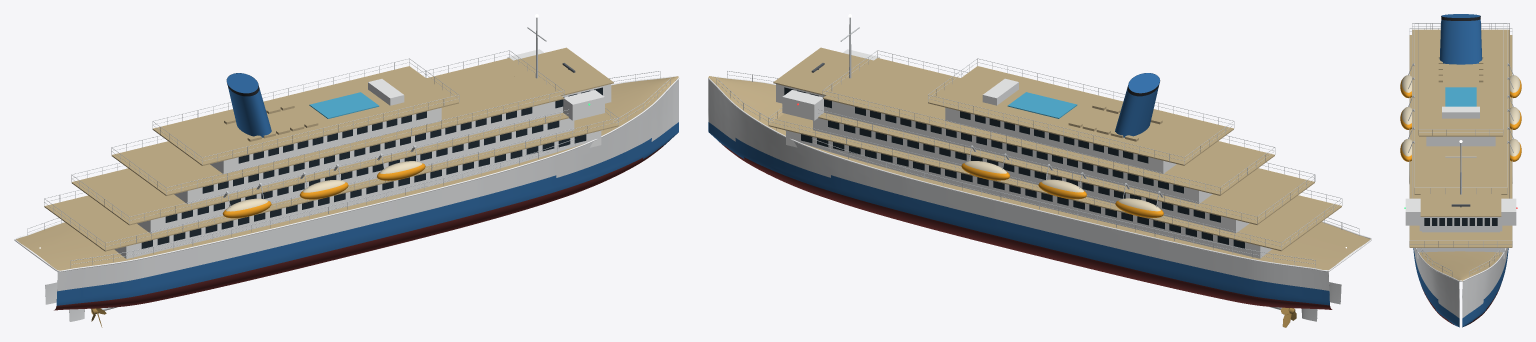
The model's file is cruise.glb.
3 views of the same model, side by side, from view 1: azimuth 30°, elevation 25°; view 2: azimuth 150°, elevation 25°; view 3: azimuth 270°, elevation 25° (orthographic). The views are drawn at different scales.
Visible parts, largest first — view 1: hull, promenade_4, promenade_3, main_deck, promenade_2, promenade_1, deck_1, deck_3, deck_2, bridge_roof, deck_1_win_s, deck_4 (+14 smaller); view 2: hull, promenade_4, promenade_3, main_deck, promenade_2, promenade_1, deck_1, deck_3, deck_2, bridge_roof, deck_1_win_p, deck_4 (+14 smaller); view 3: promenade_4, promenade_3, hull, promenade_1, bridge_roof, funnel_stack, main_deck, promenade_2, bridge_wings, bridge, deck_4, pool (+17 smaller).
Part boxes in pixels (x1=…): hull: x1=54, y1=79, x2=678, y2=310; promenade_4: x1=152, y1=66, x2=458, y2=165; promenade_3: x1=111, y1=58, x2=564, y2=195; main_deck: x1=16, y1=76, x2=678, y2=270; promenade_2: x1=71, y1=113, x2=568, y2=225; promenade_1: x1=44, y1=113, x2=618, y2=251; deck_1: x1=114, y1=130, x2=601, y2=258; deck_3: x1=174, y1=103, x2=546, y2=204; deck_2: x1=137, y1=118, x2=574, y2=233; bridge_roof: x1=499, y1=47, x2=613, y2=98; deck_1_win_s: x1=141, y1=134, x2=586, y2=248; deck_4: x1=210, y1=108, x2=441, y2=174; hull: x1=708, y1=78, x2=1332, y2=309; promenade_4: x1=928, y1=66, x2=1233, y2=165; promenade_3: x1=823, y1=58, x2=1274, y2=195; main_deck: x1=708, y1=76, x2=1370, y2=270; promenade_2: x1=818, y1=112, x2=1314, y2=224; promenade_1: x1=768, y1=113, x2=1341, y2=251; deck_1: x1=786, y1=130, x2=1271, y2=258; deck_3: x1=840, y1=103, x2=1212, y2=203; deck_2: x1=813, y1=118, x2=1249, y2=233; bridge_roof: x1=773, y1=47, x2=888, y2=98; deck_1_win_p: x1=801, y1=134, x2=1244, y2=248; deck_4: x1=945, y1=107, x2=1176, y2=173; promenade_4: x1=1419, y1=29, x2=1502, y2=136; promenade_3: x1=1414, y1=29, x2=1507, y2=194; hull: x1=1413, y1=248, x2=1508, y2=327; promenade_1: x1=1409, y1=35, x2=1512, y2=247; bridge_roof: x1=1420, y1=188, x2=1501, y2=216; funnel_stack: x1=1439, y1=14, x2=1482, y2=64; main_deck: x1=1419, y1=251, x2=1502, y2=281; promenade_2: x1=1412, y1=29, x2=1509, y2=198; bridge_wings: x1=1405, y1=198, x2=1516, y2=225; bridge: x1=1422, y1=217, x2=1499, y2=232; deck_4: x1=1426, y1=136, x2=1495, y2=146; pool: x1=1445, y1=87, x2=1476, y2=106.
Bounding box in the file's own units: 100 × 29.39 × 19.35.
